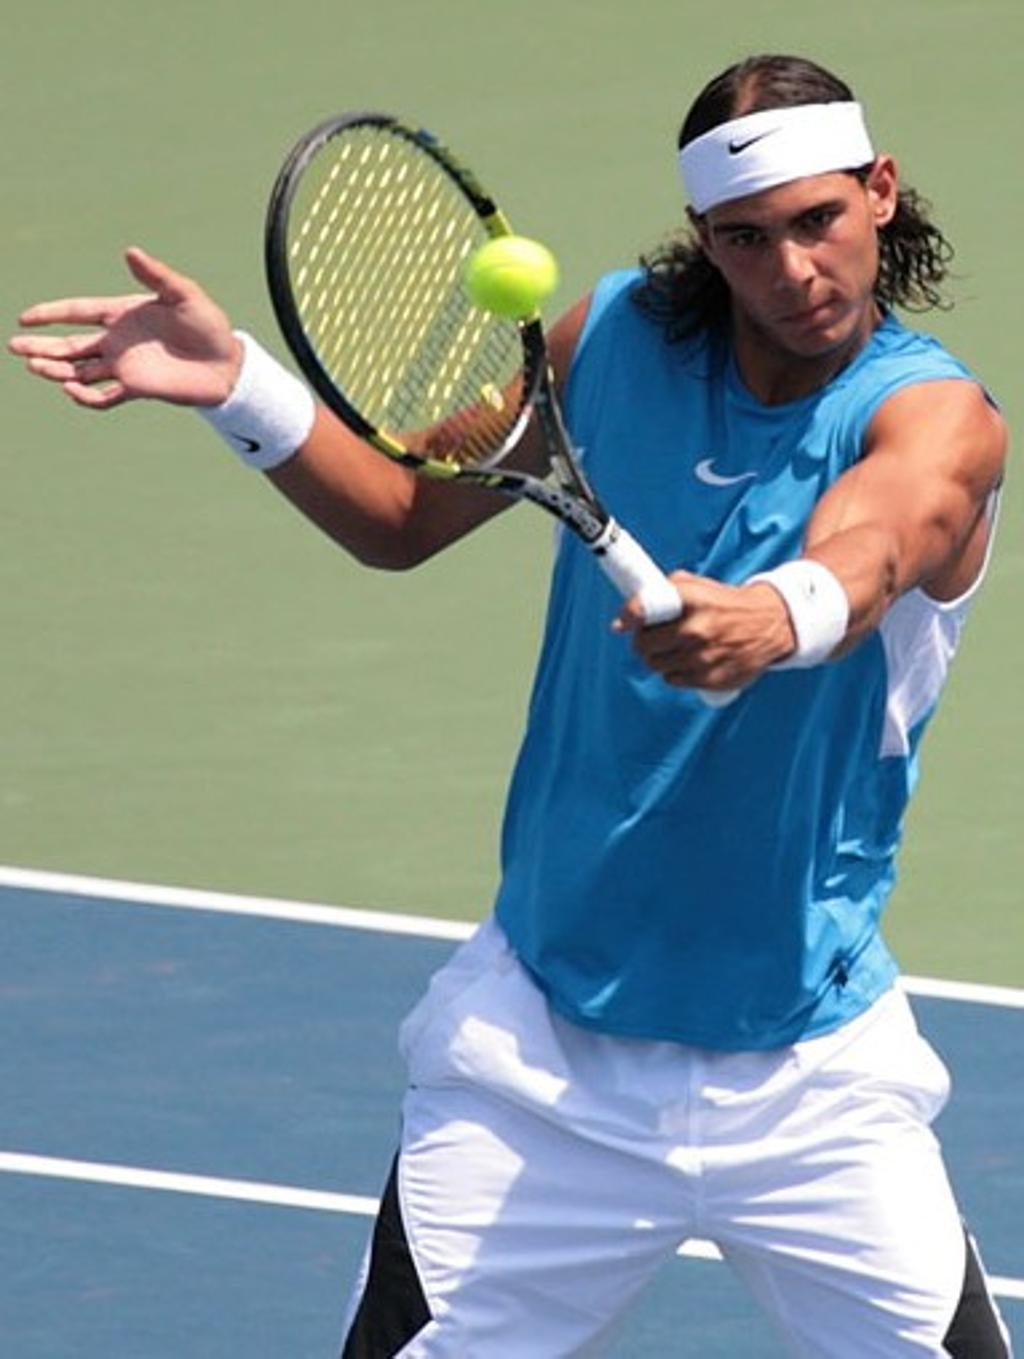face: (704, 168, 876, 356)
